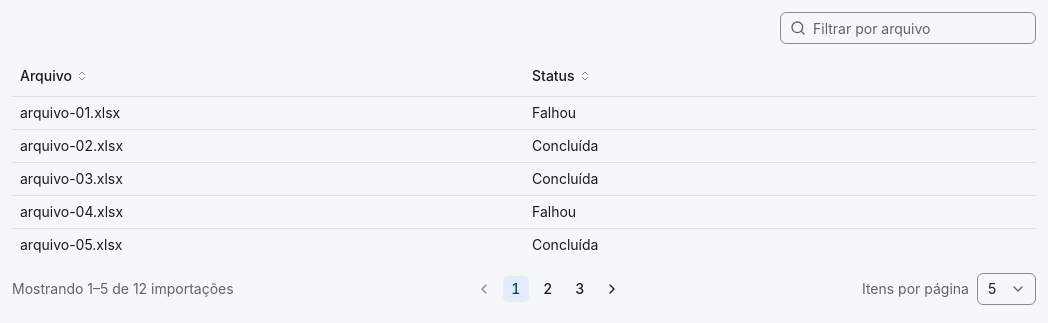
Scenario: DataTable — pagination, filter and URL state › does not mistake the arrival of its own write for an outside change
Click the button named "Próxima página" at (612, 288), box [598,274,626,302]
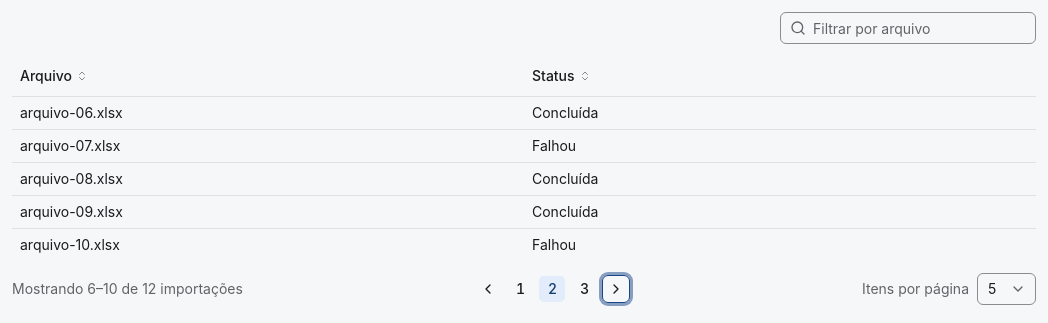
Expected: the text "arquivo-06.xlsx" is shown, [20,104,123,120]
